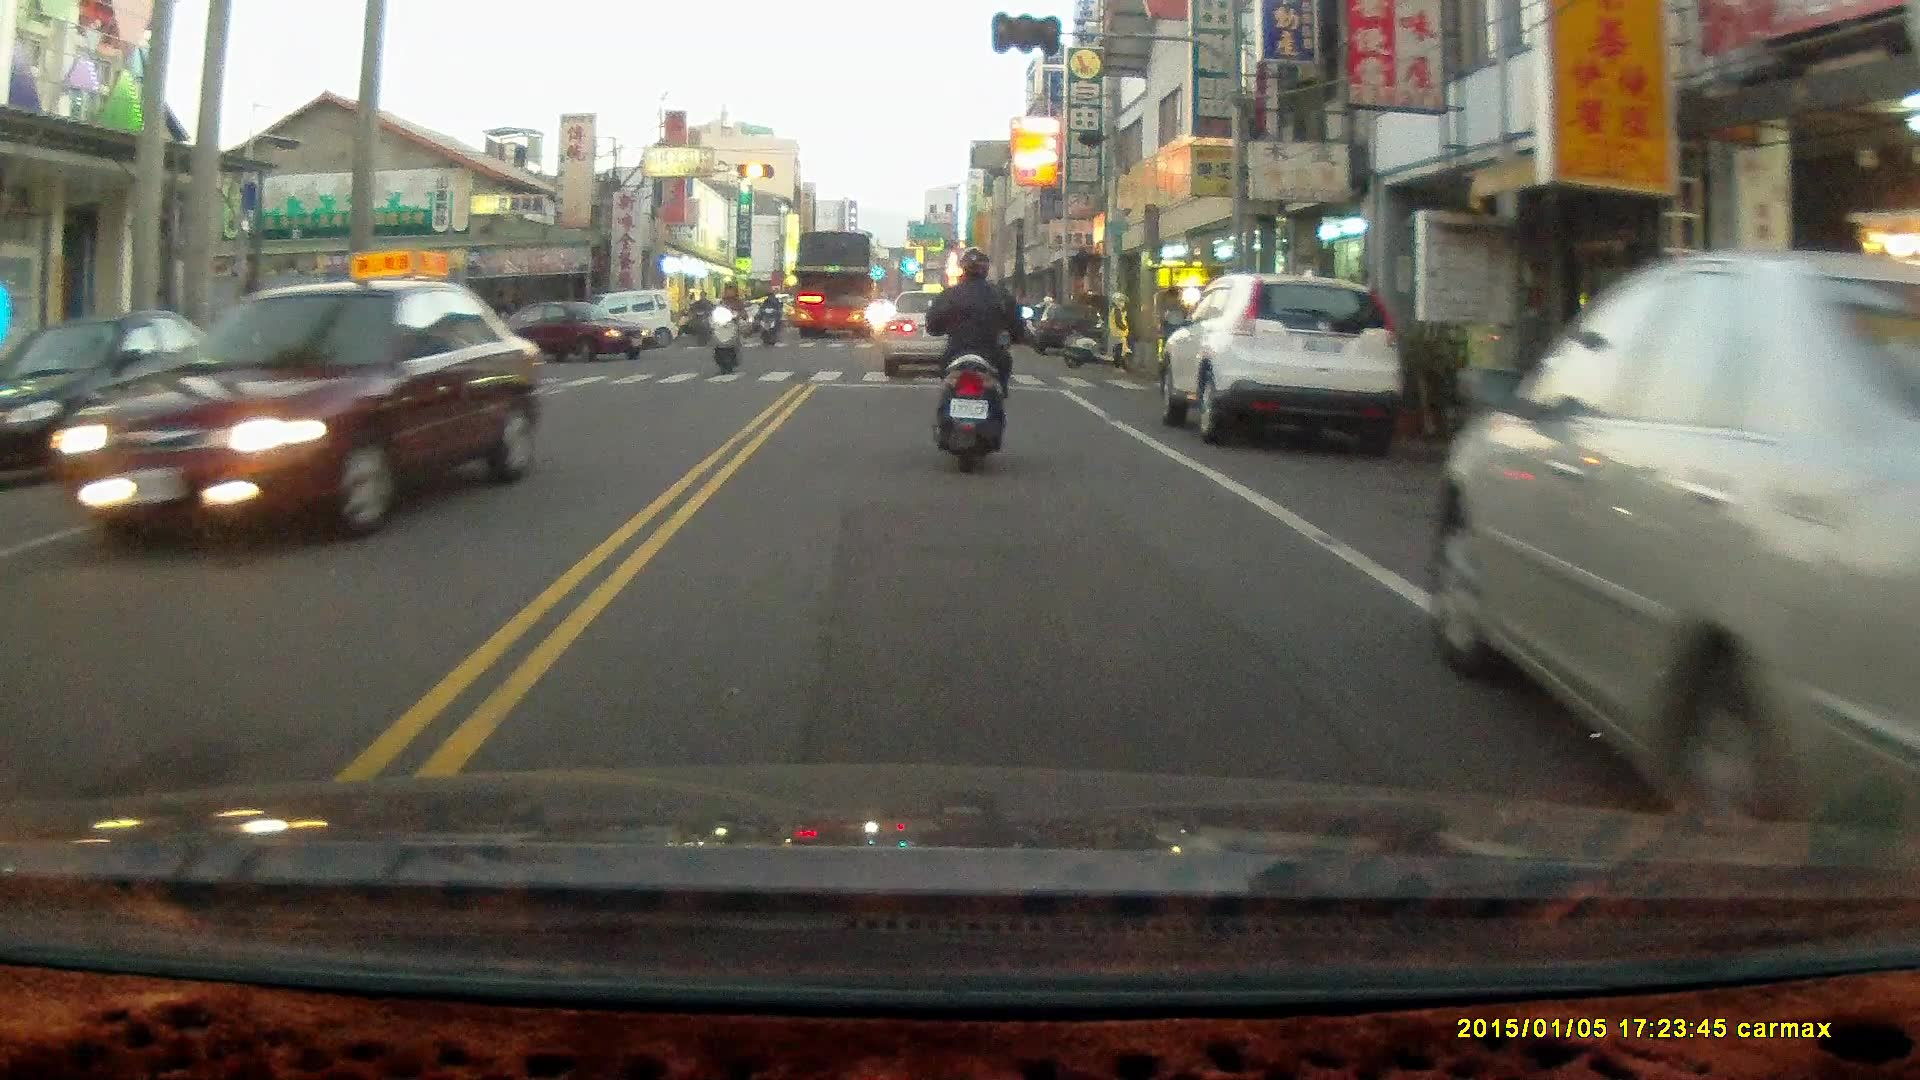pedestrian: (1156, 285, 1186, 385), (1103, 292, 1132, 376)
rider: (924, 246, 1032, 476), (707, 280, 746, 376), (688, 287, 713, 347), (758, 287, 780, 351)
vehicle: (1432, 236, 1919, 819), (67, 278, 533, 552), (1160, 275, 1406, 447), (1, 313, 255, 476), (790, 230, 879, 343), (881, 292, 987, 379), (505, 298, 646, 361)
